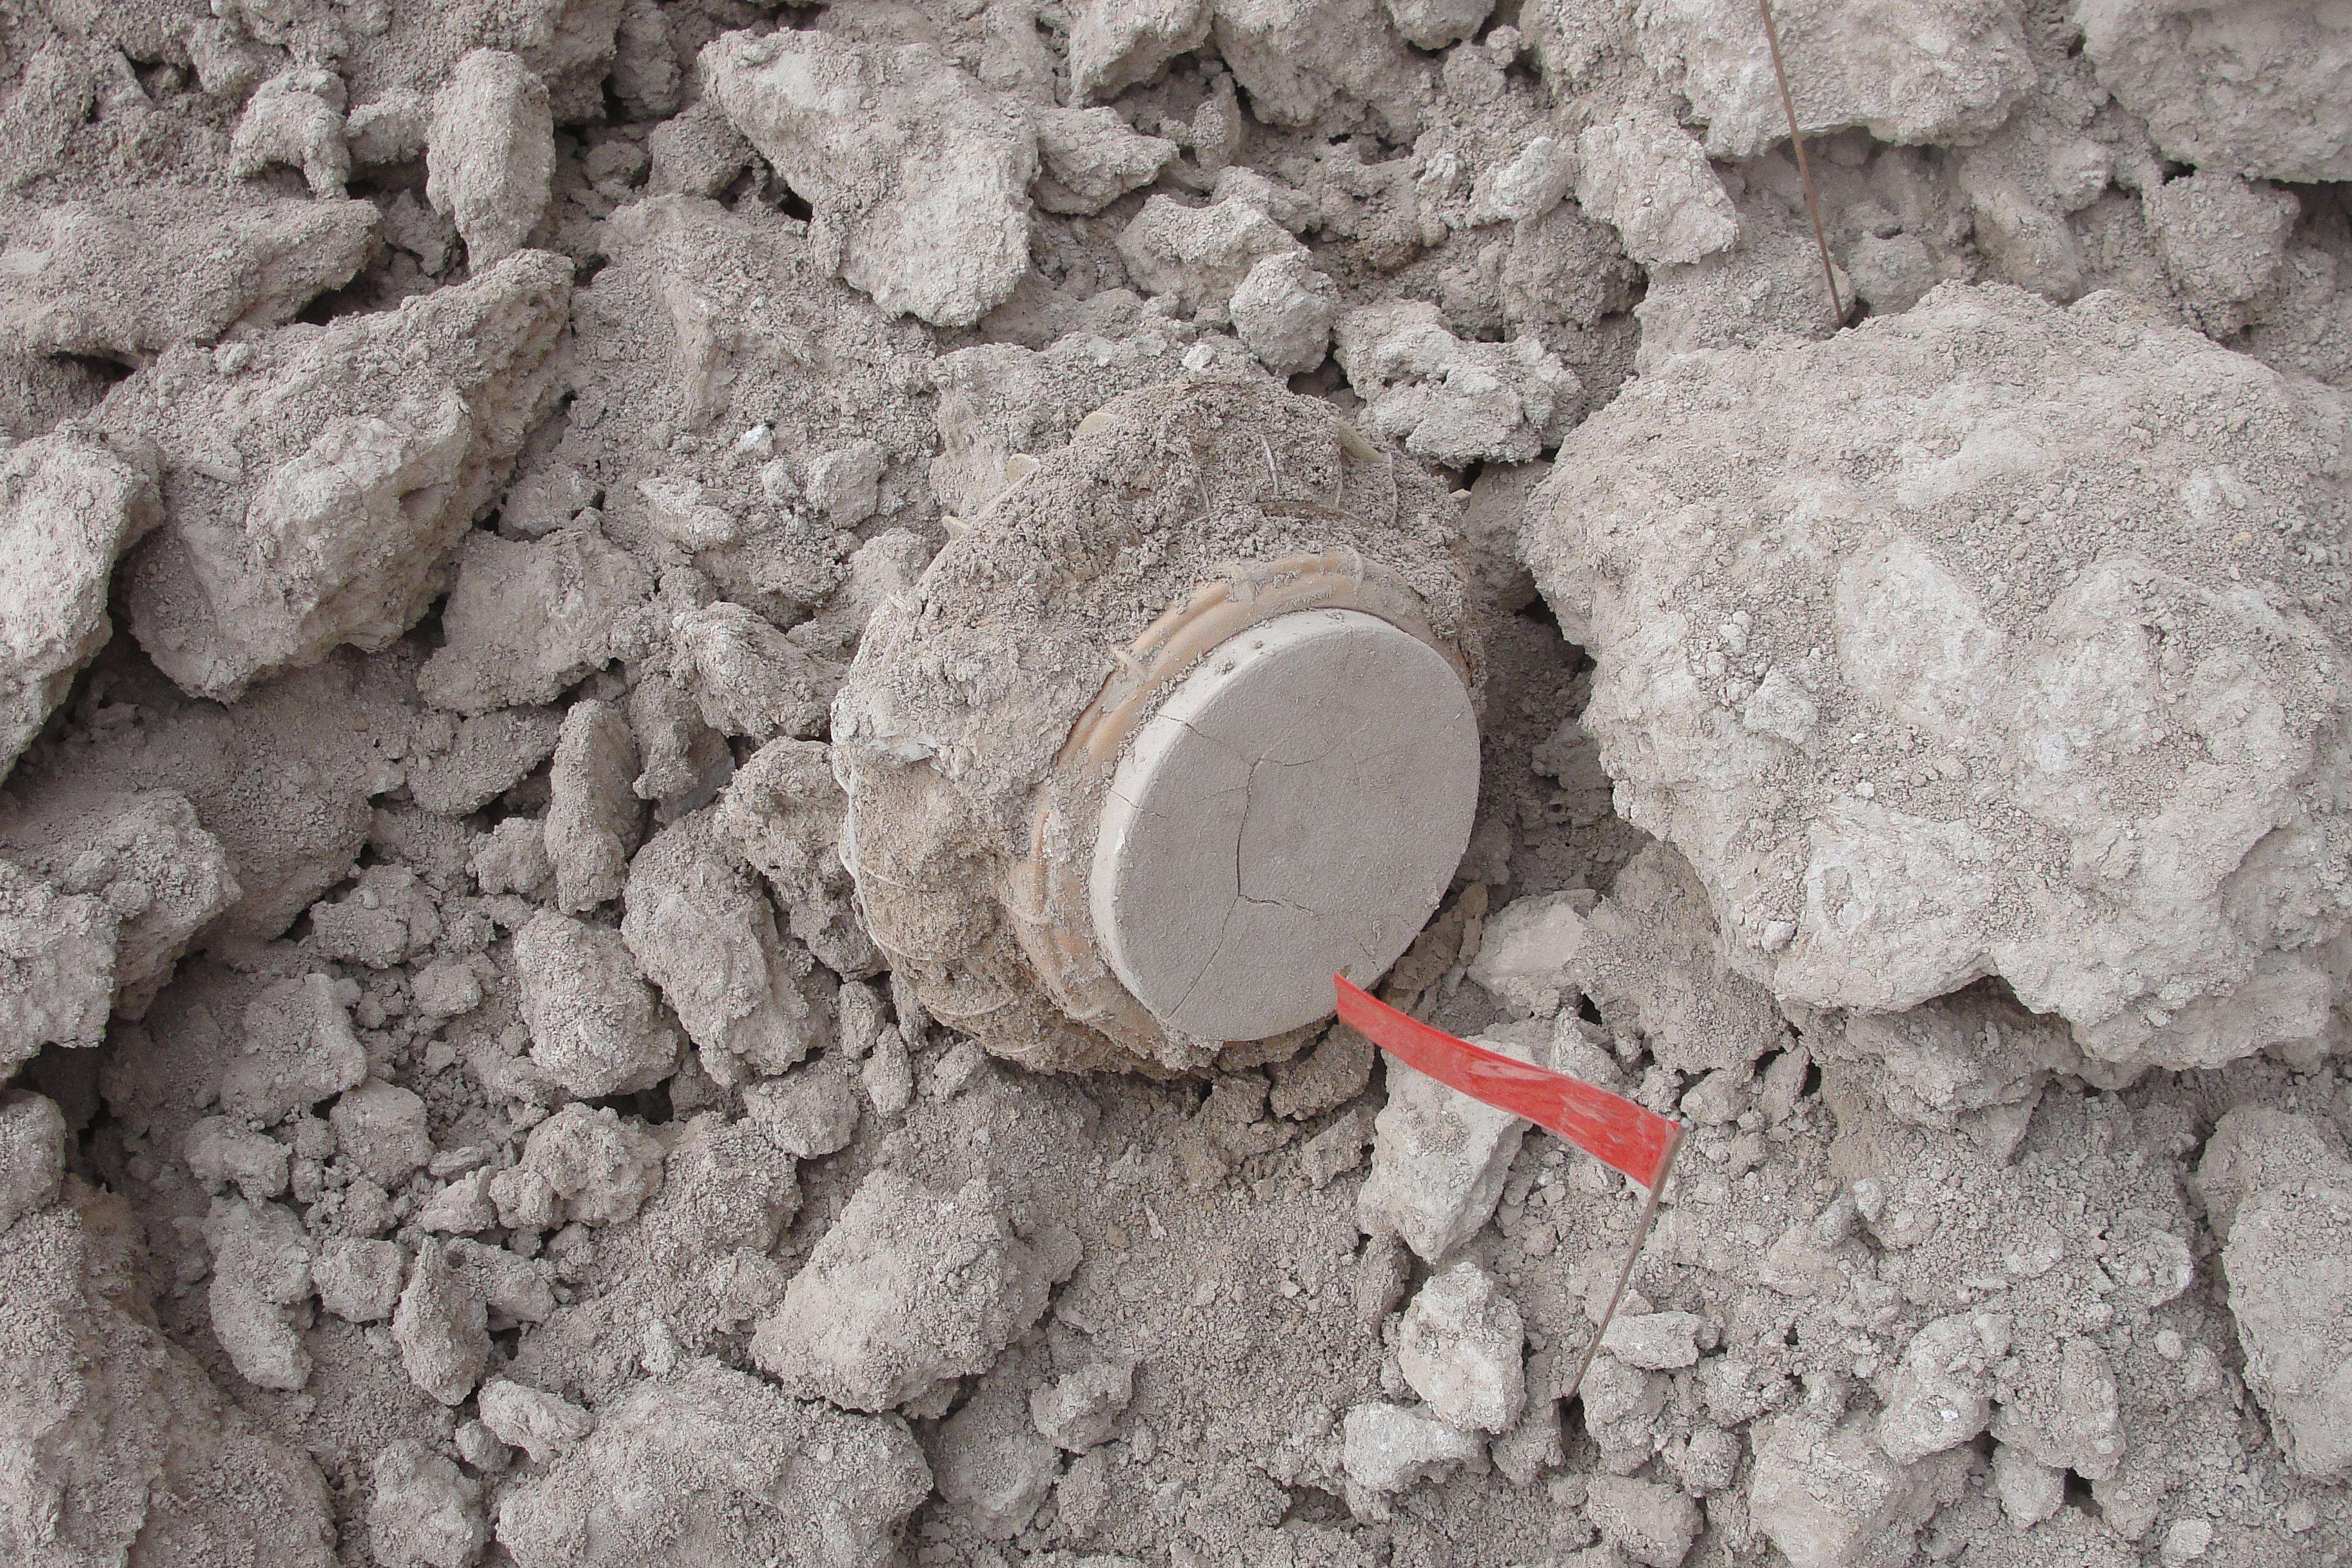pmn: (817, 359, 1493, 1097)
